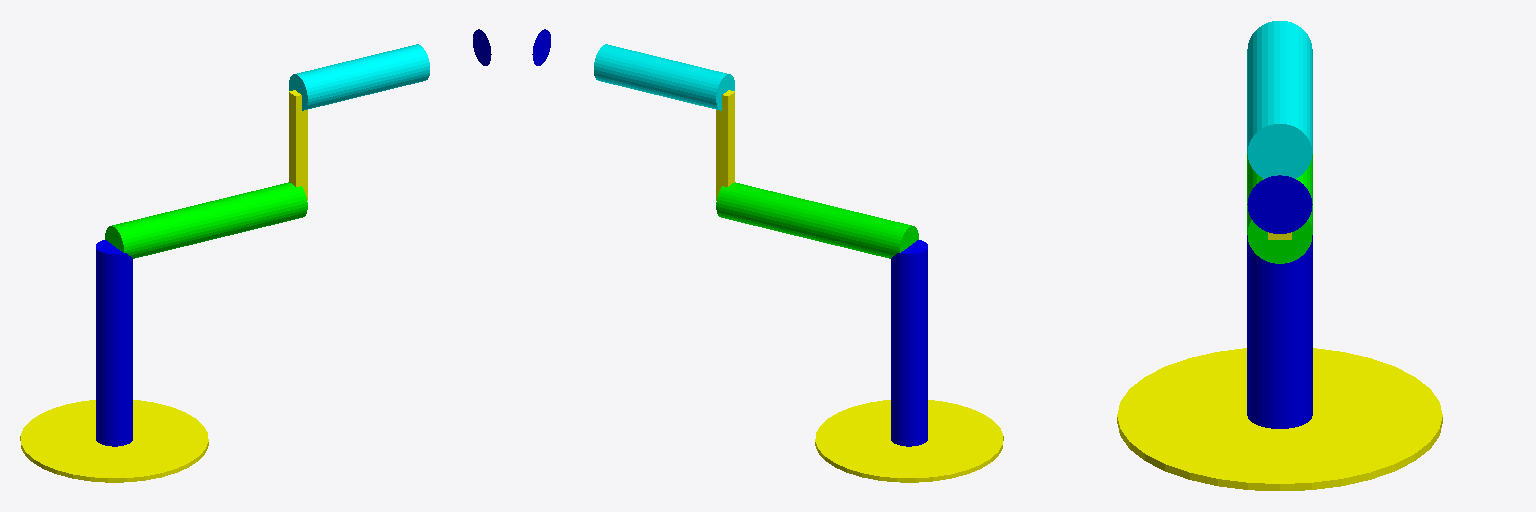
robot.urdf — robot_prismatic_1:
<robot name="robot_prismatic_1"> <!--  robot name- you decide   -->
<!--  sequence : link-joint-link-joint- ... -link    -->
<!--  first link called base_link --> 
<!--  units: meters for distance, rad in case of angles -->  
<link name="base_link">
    <visual>
      <geometry>
        <cylinder length="0.01" radius="0.2"/> 
      </geometry>
      <origin rpy="0 0 0" xyz="0 0 0"/> <!--  rpy: roll pitch yaw -> orientation xyz> position --> 
      <material name="generic">
        <color rgba="1 1 0 1"/>
      </material>
    </visual>
  </link>
<!--  first joint --> 
  <joint name="joint1" type="revolute"> <!--  types: revolute and prismatic --> 
    <parent link="base_link"/>
    <child link="link1"/>
    <origin xyz="0 0 0"/>
    <axis xyz="0 0 1"/>
    <limit effort="300" velocity="0.1" lower="-3.14" upper="3.14"/>
    <dynamics damping="50" friction="1"/>
  </joint>
<!--  link 1--> 
  <link name="link1">
    <visual>
      <geometry>
        <cylinder length="0.46" radius="0.04"/>
      </geometry>
      <origin rpy="0 0 0" xyz="0 0 0.225"/>
      <material name="generic_2">
        <color rgba="0 0 1 1"/>
      </material>
    </visual>
  </link>
<!--  joint 2--> 
  <joint name="joint2" type="revolute">
    <parent link="link1"/>
    <child link="link2"/>
    <origin xyz="0 0 0.46"/>
    <axis xyz="0 0 -1"/>
    <limit effort="300" velocity="0.1" lower="-3.14" upper="3.14"/>
    <dynamics damping="50" friction="1"/>
  </joint>
<!--  link 2--> 
  <link name="link2">
    <visual>
      <geometry>
        <cylinder length="0.45" radius="0.04"/>
      </geometry>
      <origin rpy="0 1.5708 0" xyz="0.225 0 0"/>
      <material name="generic_3">
        <color rgba="0 1 0 1"/>
      </material>
    </visual>
  </link>
<!--  joint 3--> 
 <joint name="joint3" type="prismatic">
    <parent link="link2"/>
    <child link="link3"/>
    <origin xyz="0.45 0 0"/>
    <axis xyz="0 0 1"/>
    <limit effort="300" velocity="0.1" lower="-0.2" upper="0.2"/>
    <dynamics damping="50" friction="1"/>
  </joint>
  <link name="link3">
    <visual>
      <geometry>
        <box size="0.25 0.03 0.03"/>
      </geometry>
      <origin rpy="0 1.57079 0" xyz="0 0 0.125"/>
      <material name="generic_5">
        <color rgba="1 1 0 1"/>
      </material>
    </visual>
  </link>
<!--  link 4--> 
  <joint name="joint4" type="revolute">
    <parent link="link3"/>
    <child link="link4"/>
    <origin xyz="0 0 0.25"/>
    <axis xyz="0 -1 0"/>
    <limit effort="300" velocity="0.1" lower="-3.14" upper="3.14"/>
    <dynamics damping="50" friction="1"/>
  </joint>
  <link name="link4">
    <visual>
      <geometry>
        <cylinder length="0.3" radius="0.04"/>
      </geometry>
      <origin rpy="0 1.57079 0" xyz="0.15 0 0"/>
      <material name="generic_2">
        <color rgba="0 1 1 1"/>
      </material>
    </visual>
  </link>
<!-- link extra-->
  <joint name="joint5" type="revolute">
    <parent link="link4"/>
    <child link="link5"/>
    <origin xyz="0.3 0 0"/>
    <axis xyz="0 -1 0"/>
    <limit effort="300" velocity="0.1" lower="-3.14" upper="3.14"/>
    <dynamics damping="50" friction="1"/>
  </joint>
  <link name="link5">
    <visual>
      <geometry>
        <cylinder length="0.0" radius="0.04"/>
      </geometry>
      <origin rpy="0 1.57079 0" xyz="0.15 0 0"/>
      <material name="generic_2">
        <color rgba="0 0 1 1"/>
      </material>
    </visual>

  </link>
</robot>

--- What the picture shows (computed from the rendered views, not written in the file) ---
The picture shows the robot from 3 angles, left to right: view 1: azimuth 30°, elevation 25°; view 2: azimuth 150°, elevation 25°; view 3: azimuth 270°, elevation 25°; orthographic projection.
Robot: robot_prismatic_1 — 6 links, 5 joints (4 revolute, 1 prismatic); root link base_link; default pose: all joints at 0.
Links seen in each view (by area): view 1: base_link, link1, link2, link4, link3; view 2: base_link, link1, link2, link4, link3; view 3: base_link, link1, link4, link5, link2.
Link boxes in pixels (<box>): base_link: <box>20,400,208,482</box>; link1: <box>96,240,132,446</box>; link2: <box>105,182,307,258</box>; link4: <box>289,44,429,110</box>; link3: <box>289,90,307,200</box>; base_link: <box>815,400,1003,482</box>; link1: <box>891,240,927,446</box>; link2: <box>716,182,918,258</box>; link4: <box>594,44,734,110</box>; link3: <box>716,90,734,200</box>; base_link: <box>1117,348,1442,490</box>; link1: <box>1247,235,1312,428</box>; link4: <box>1247,21,1312,178</box>; link5: <box>1247,175,1312,233</box>; link2: <box>1247,154,1312,263</box>.
Bounding box of the posed robot: 1.1 × 0.4 × 0.755 m (x, y, z).
Geometry: primitives only (box / cylinder / sphere), no mesh files.